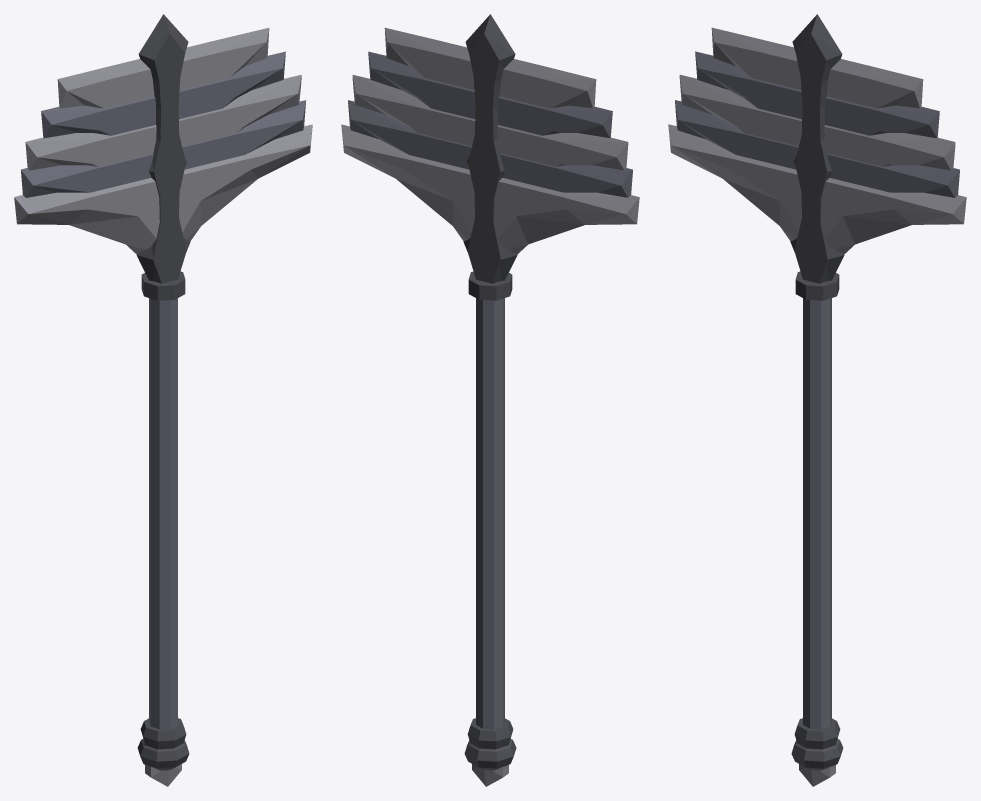
Rendered from _hammer_10.fbx.
3 renders of one model, left to right at view 1: azimuth 30°, elevation 25°; view 2: azimuth 150°, elevation 25°; view 3: azimuth 330°, elevation 25°, orthographic.
Parts seen in each view (by area): view 1: hammer_10; view 2: hammer_10; view 3: hammer_10.
Boxes of the visible parts, x1,y1,x2,y2 form: hammer_10: (14, 14, 312, 786); hammer_10: (341, 14, 639, 786); hammer_10: (668, 14, 966, 786).
Bounding box in the file's own units: 36.53 × 89.99 × 5.7.
